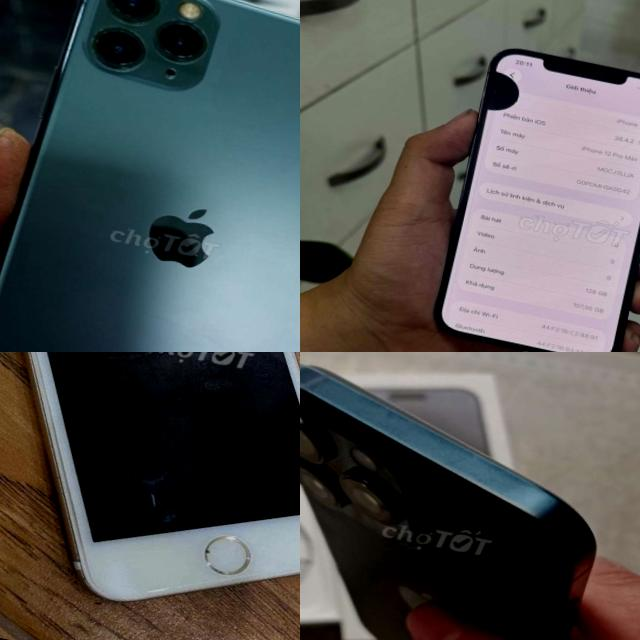gen_11: (0, 0, 300, 352)
gen_12_13: (429, 36, 640, 352)
gen_15: (300, 352, 635, 640)
gen_7_8: (0, 352, 300, 640)
